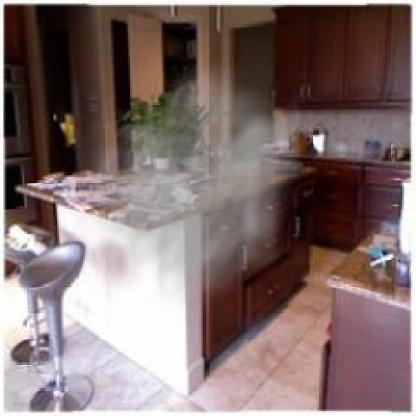Smoke: (72, 54, 299, 317)
